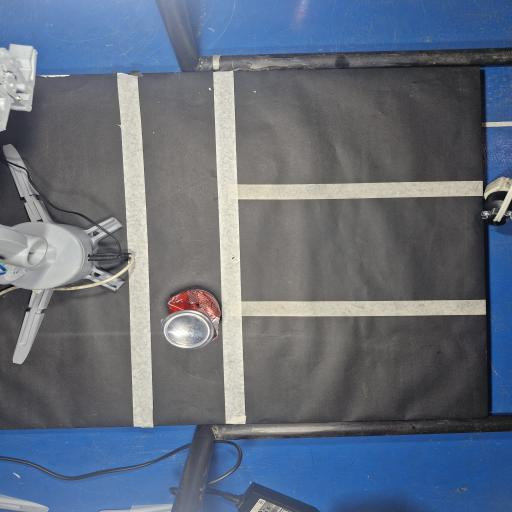lata_defectuoso: (161, 289, 221, 350)
